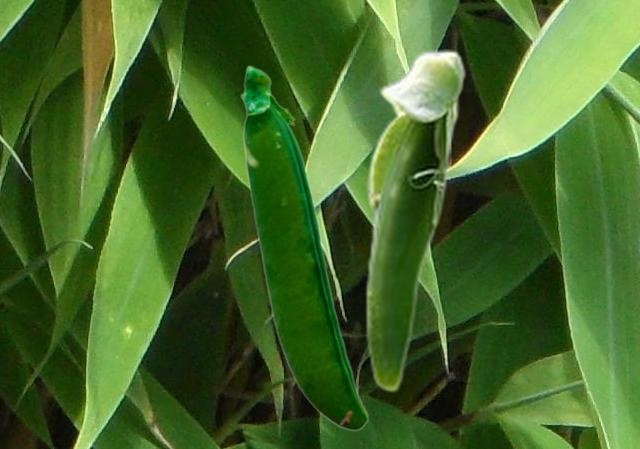pea: (240, 64, 367, 430), (364, 49, 466, 392)
